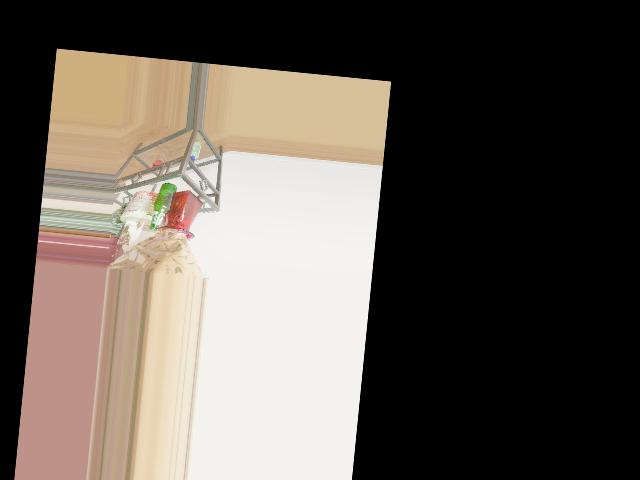beer: (149, 181, 177, 232)
